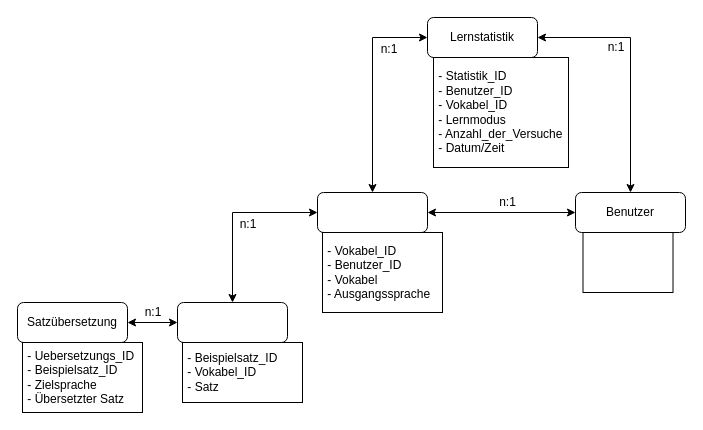
This 703x430 diagram has some shape labels left out. Each missing label, with the centre of its shape:
- Benutzer_ID - Name - Vorname: point 627,262
Beispielsatz: point 232,322
Vokabel: point 372,212
